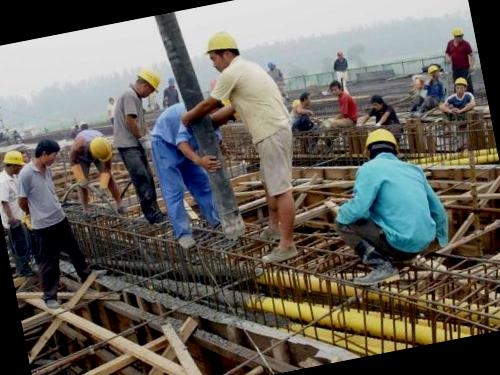no_helmet: (30, 134, 66, 170), (366, 92, 388, 113), (326, 77, 346, 98), (296, 87, 314, 108)
